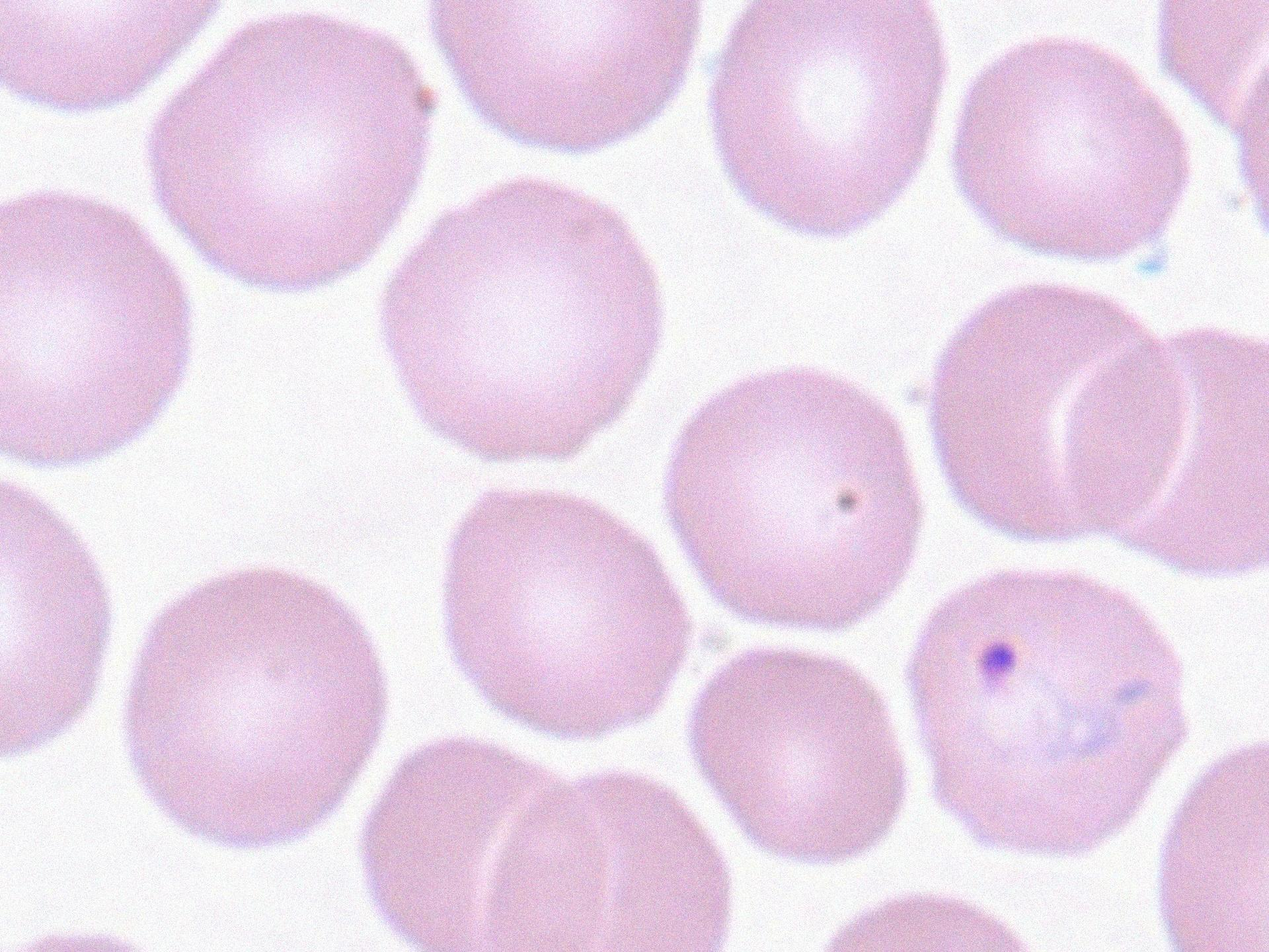Infected: (912, 569, 1182, 855)
Uninfected: (150, 18, 438, 292), (386, 177, 659, 459), (119, 574, 386, 859), (930, 281, 1196, 545), (665, 371, 922, 629), (445, 492, 681, 734), (712, 0, 946, 237), (359, 732, 607, 952), (1058, 322, 1269, 577), (0, 197, 194, 471), (952, 43, 1191, 258), (692, 649, 903, 862), (480, 774, 731, 952)
